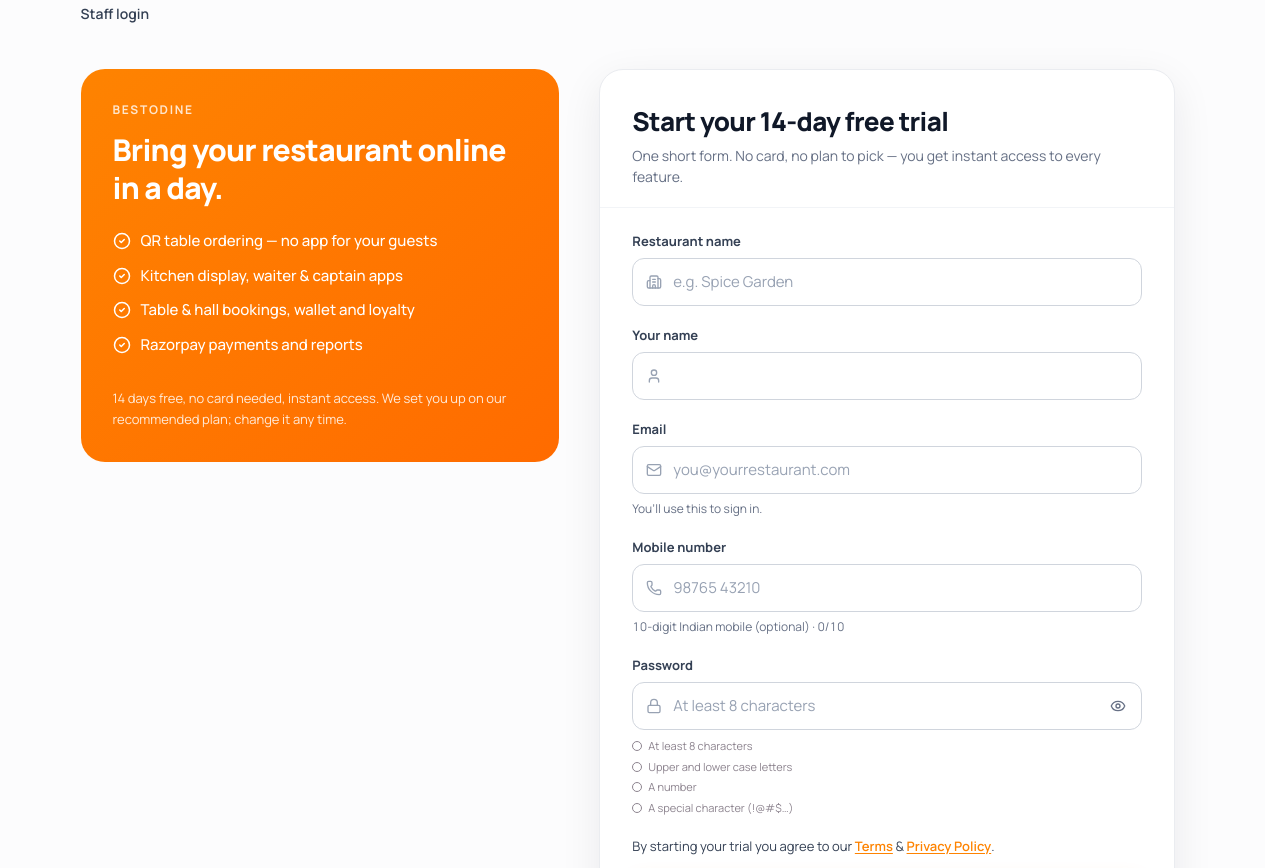
Test: StartTrial › 503 TRIAL_UNAVAILABLE shows the server message and does not sign in
Type "Spice Garden" into the field with id "orgName". click: (887, 282)
box: [632,258,1142,306]
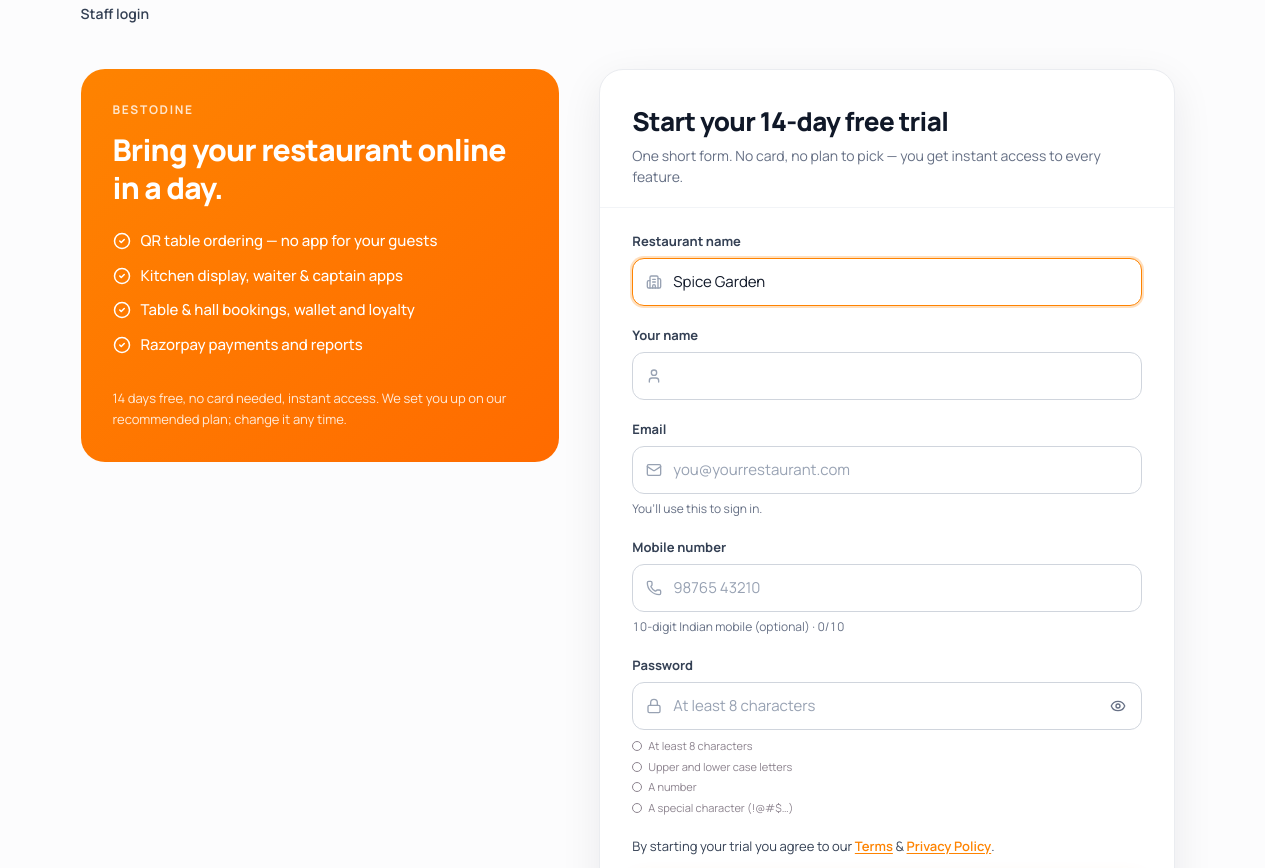
Type "Asha Rao" into the field with id "adminName". click: (887, 376)
box: [632,352,1142,400]
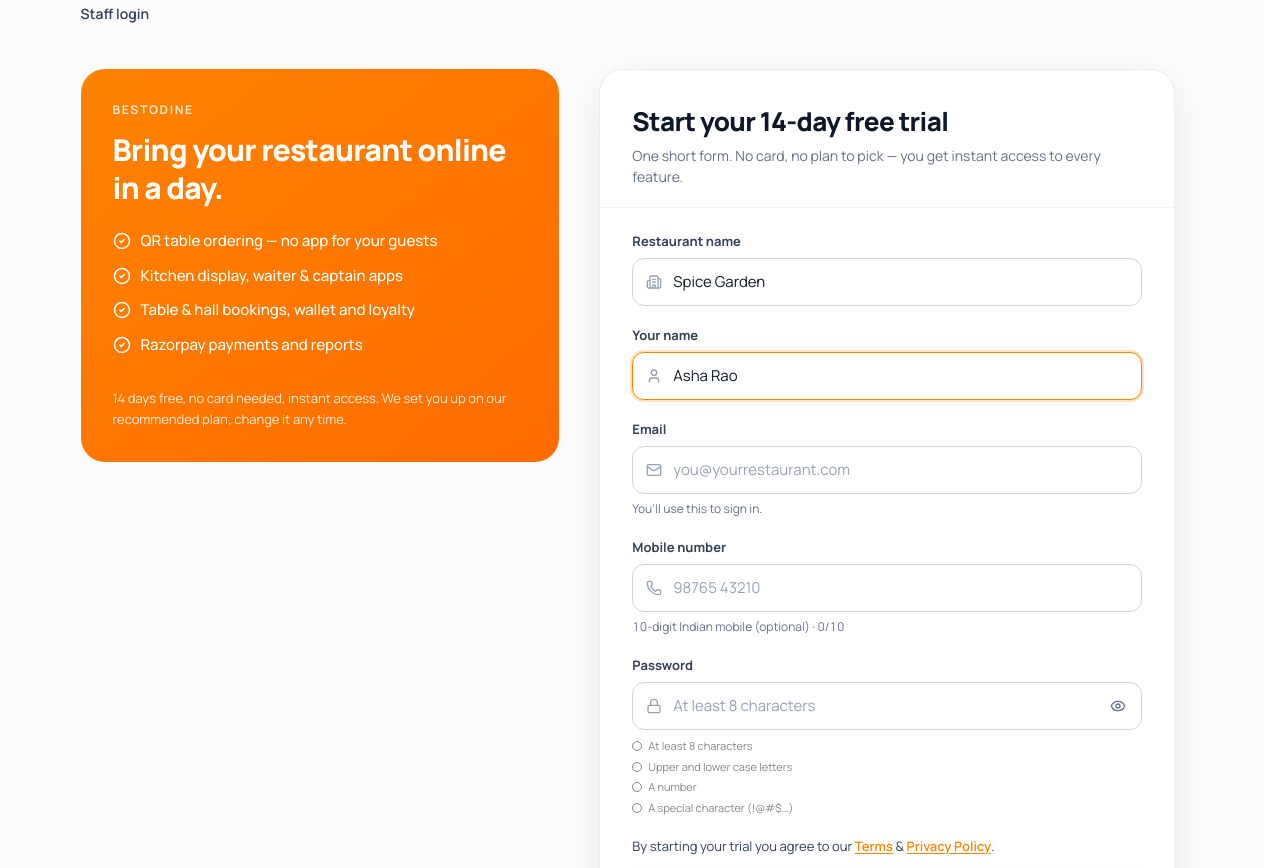
Type "Asha@Spice.in" into the field with id "email". click: (887, 470)
box: [632,446,1142,494]
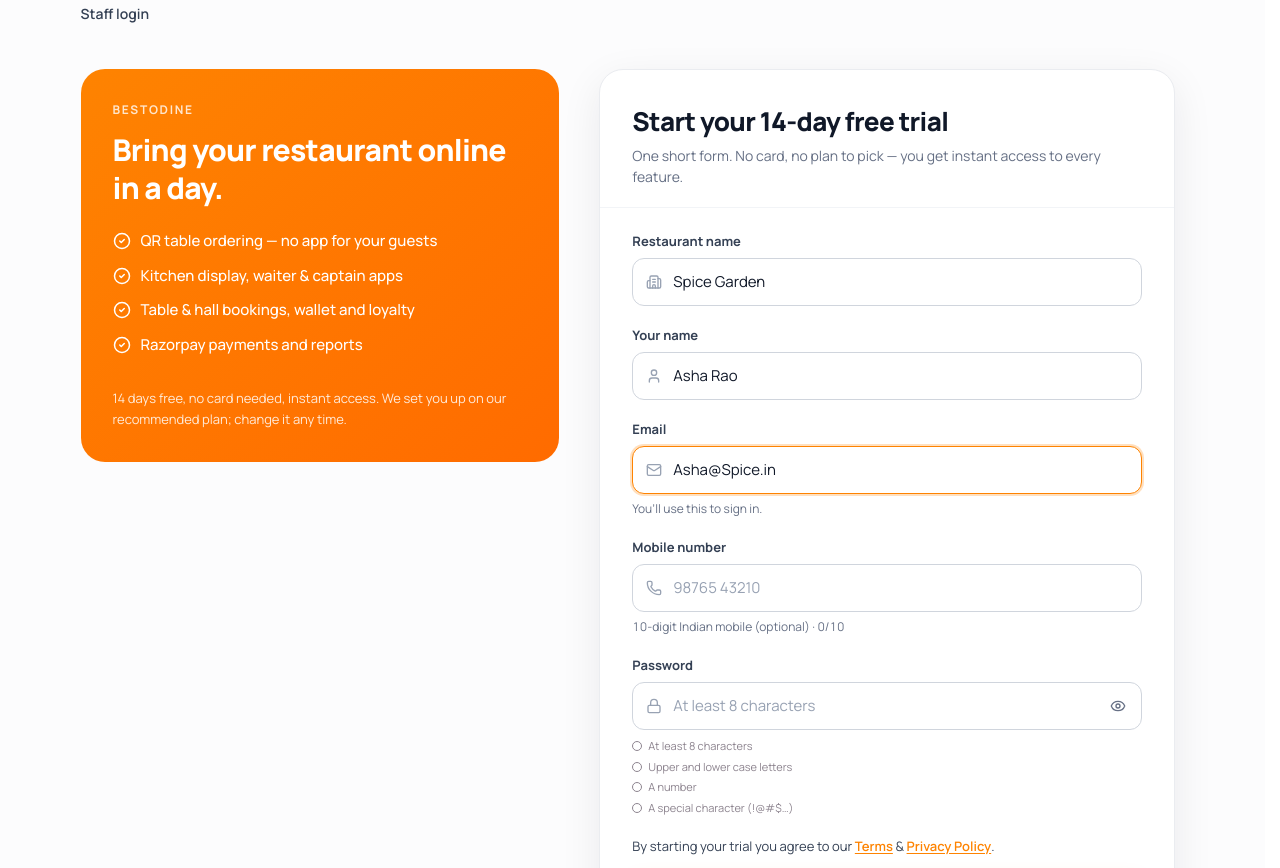
Type "9876543210" into the field labelled "Mobile number". click: (887, 588)
box: [632,564,1142,612]
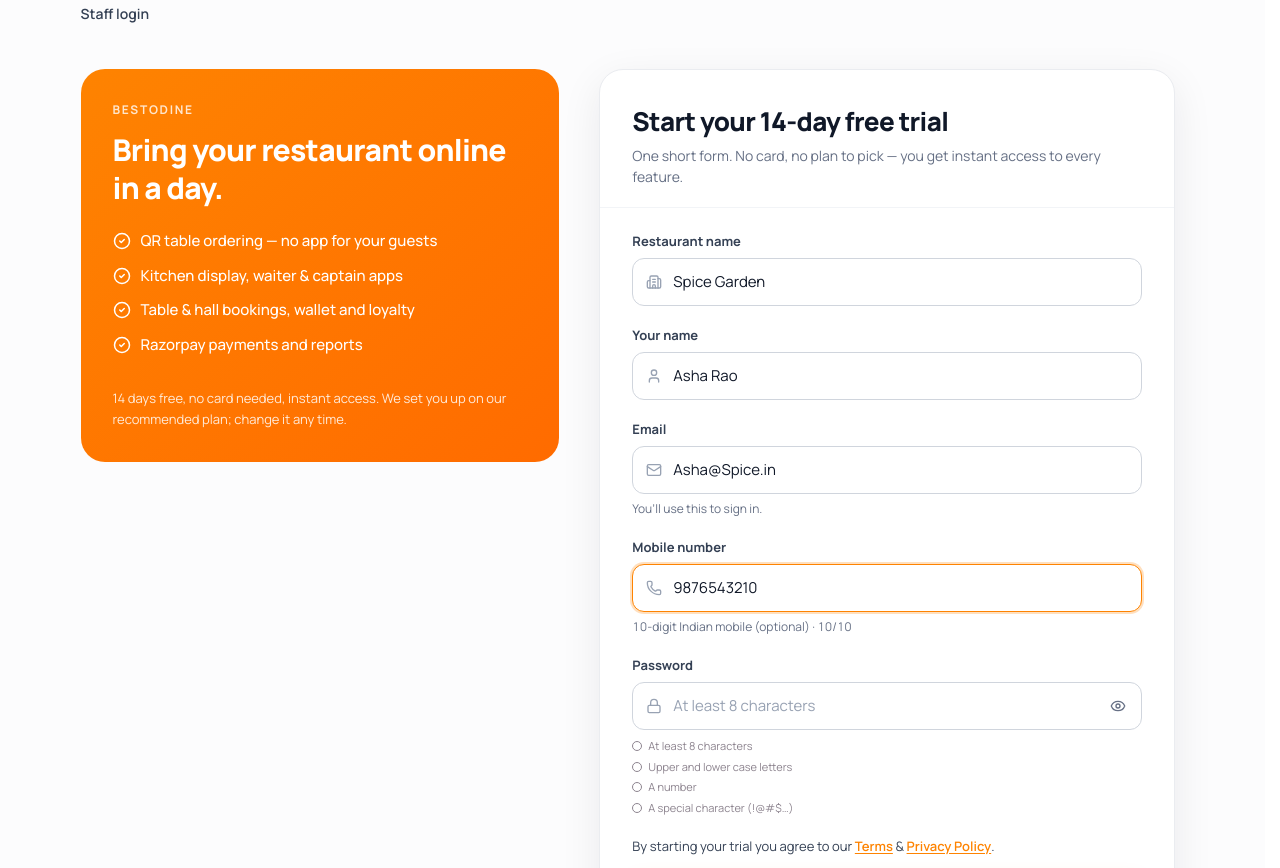
Type "Secret#12345" into the password field with id "adminPassword". click: (887, 706)
box: [632,682,1142,730]
(page scrolled)
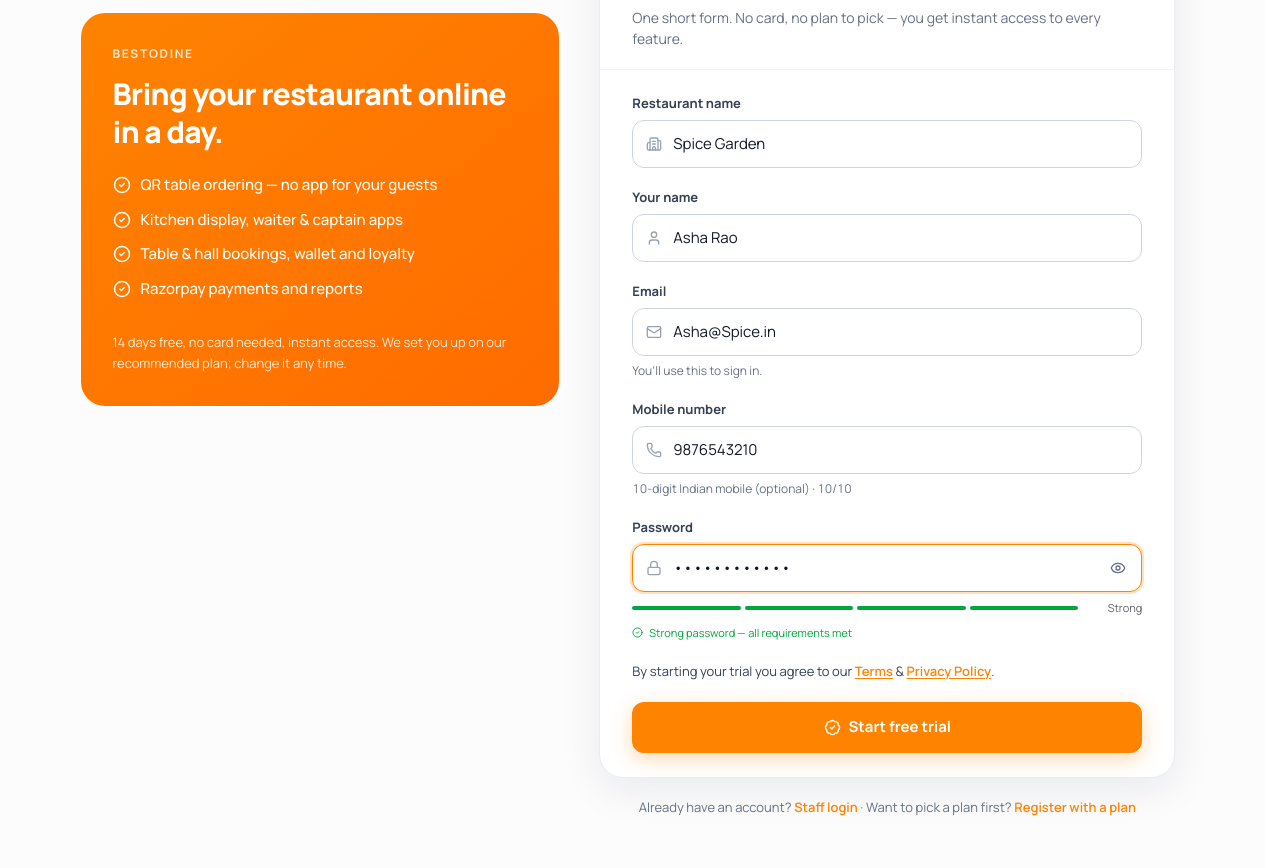
Click the button "Start free trial". click: (887, 727)
box: [632,702,1142,753]
(page scrolled)
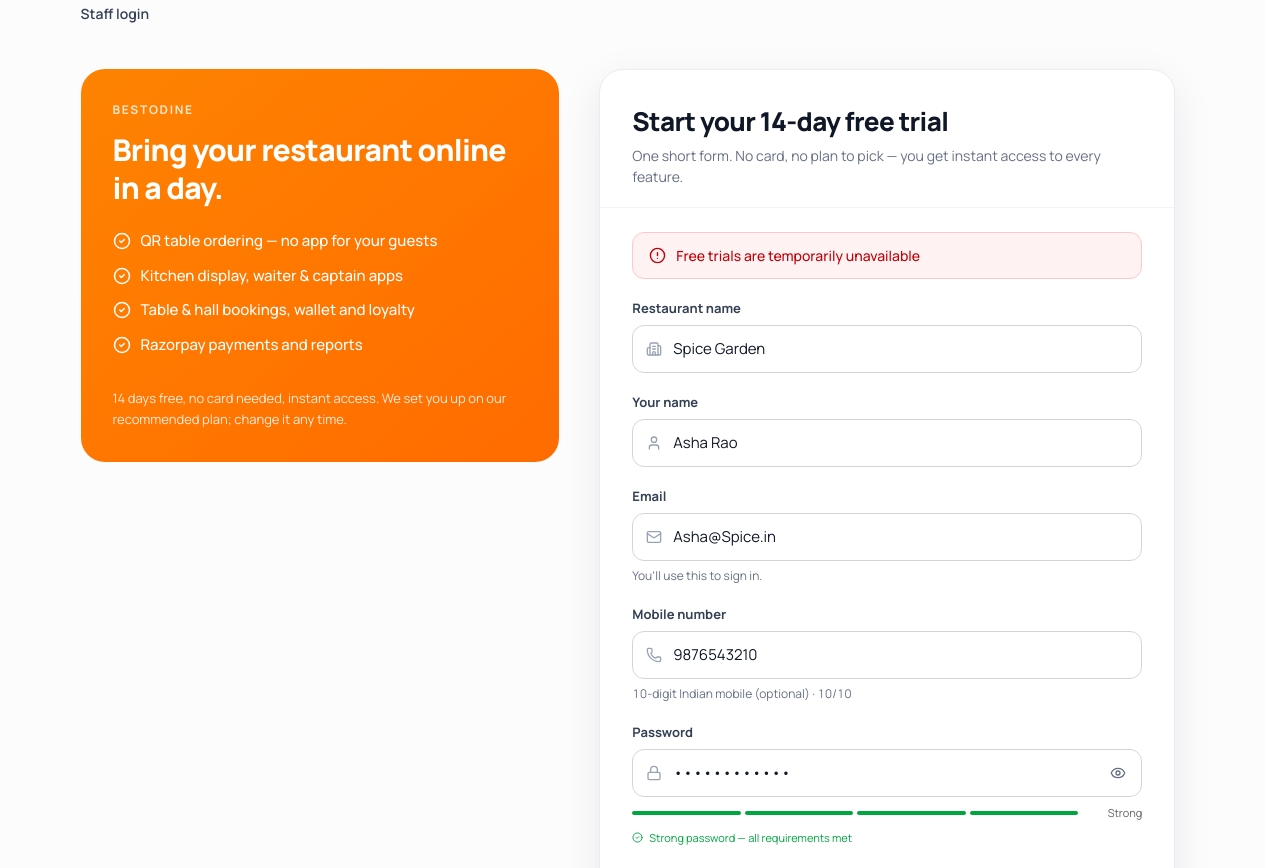
Check: the message reads "Free trials are temporarily unavailable", box [676,246,920,265]
